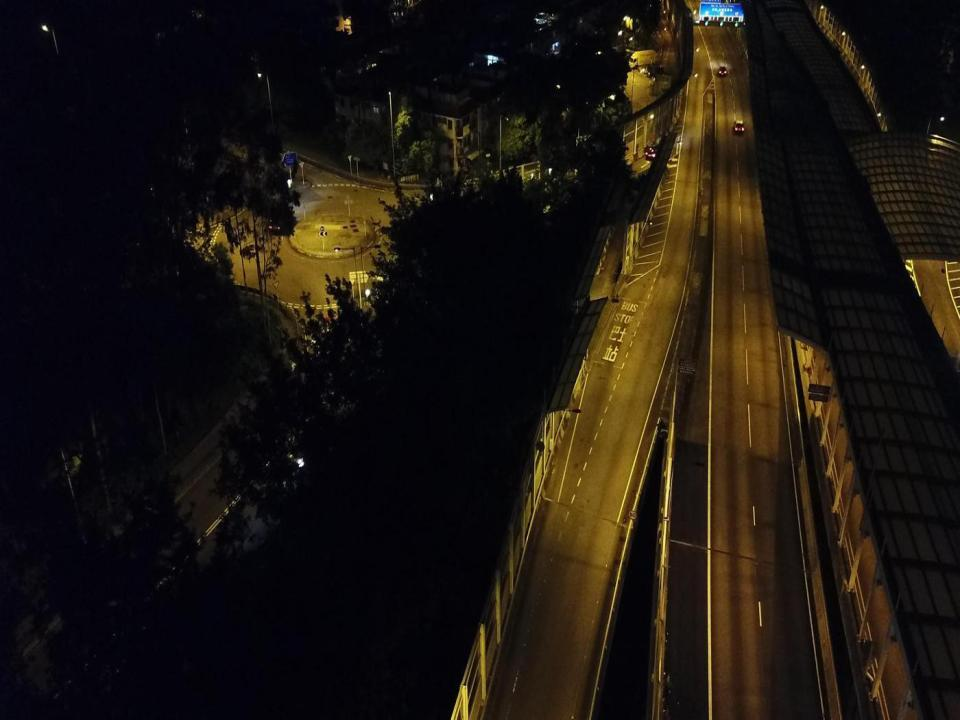car: (644, 142, 663, 160), (734, 118, 744, 133), (718, 64, 727, 77)
van: (628, 48, 656, 70)
